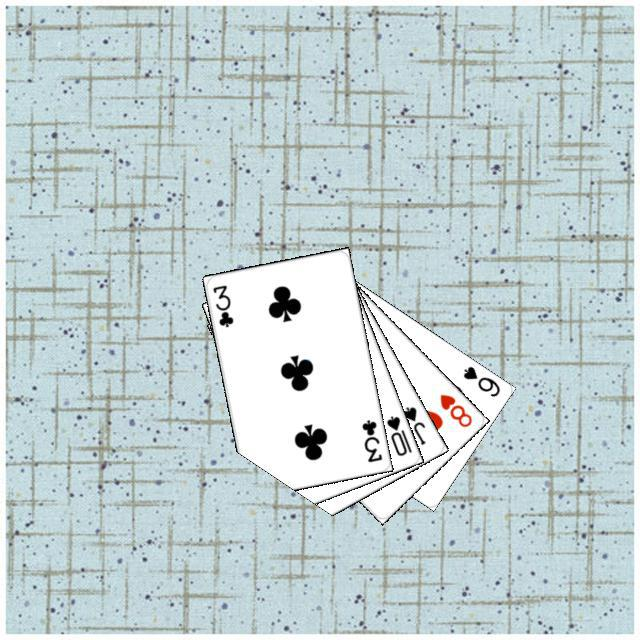10s: (381, 411, 414, 458)
3c: (357, 414, 384, 464), (208, 280, 235, 329)
6s: (458, 361, 502, 399)
8h: (435, 389, 474, 429)
Js: (398, 402, 427, 447)
